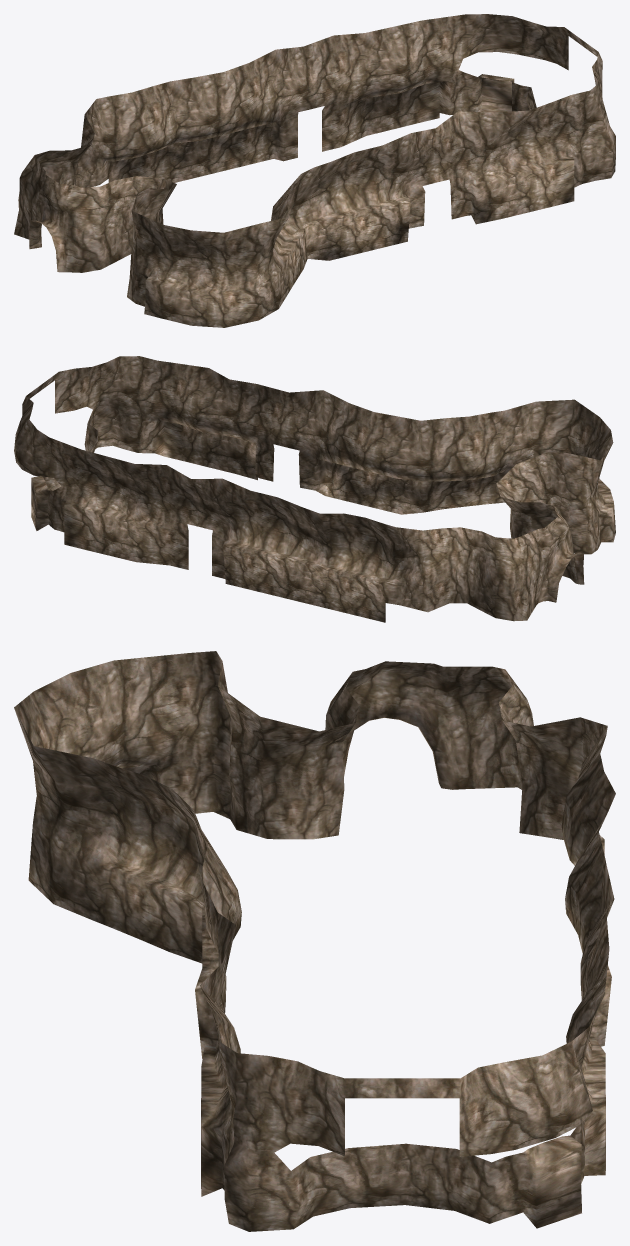
The model's file is EKH_GROTTO_PS_GR_OBJECT43.fbx.
The picture shows the model from 3 angles, top to bottom: view 1: azimuth 30°, elevation 25°; view 2: azimuth 150°, elevation 25°; view 3: azimuth 270°, elevation 25°; orthographic projection. The views are drawn at different scales.
Visible parts, largest first — view 1: EKH_GROTTO_PS_GR_OBJECT43; view 2: EKH_GROTTO_PS_GR_OBJECT43; view 3: EKH_GROTTO_PS_GR_OBJECT43.
Boxes of the visible parts, x1=… form: EKH_GROTTO_PS_GR_OBJECT43: x1=14, y1=14, x2=615, y2=327; EKH_GROTTO_PS_GR_OBJECT43: x1=14, y1=356, x2=615, y2=622; EKH_GROTTO_PS_GR_OBJECT43: x1=14, y1=651, x2=615, y2=1231.
Size of the model in its own units: 294652 by 56805 by 164354.
1 material, 1 textured.
